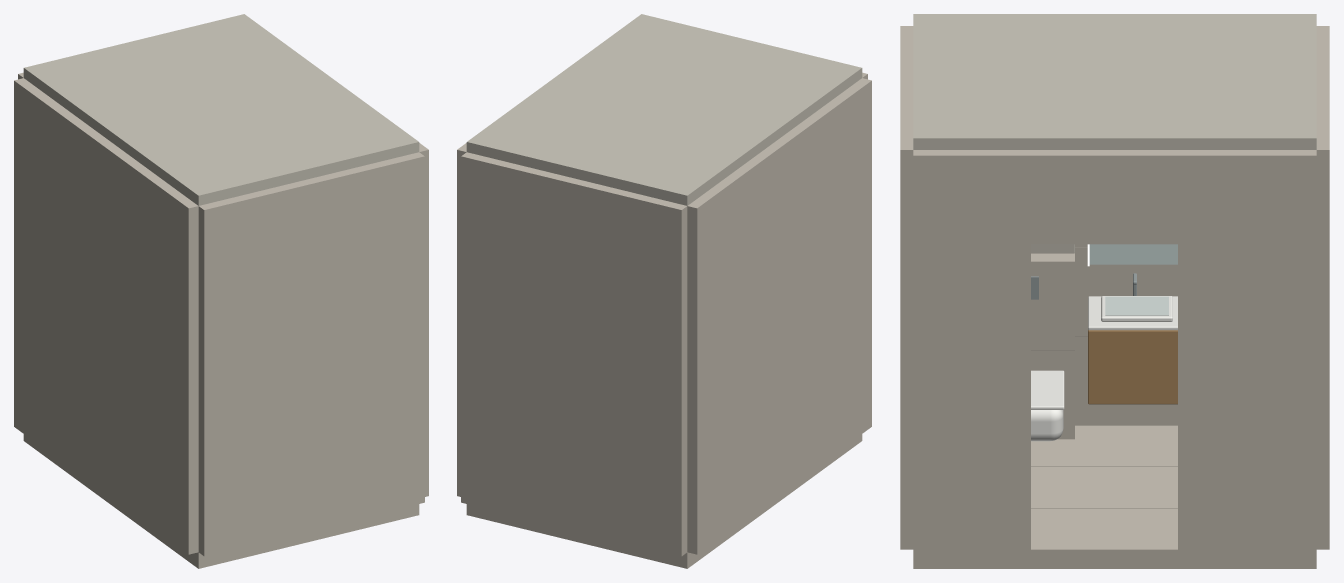
The model's file is a3-tiles.glb.
3 views of the same model, side by side, from view 1: azimuth 30°, elevation 25°; view 2: azimuth 150°, elevation 25°; view 3: azimuth 270°, elevation 25° (orthographic). The views are drawn at different scales.
Visible parts, largest first — view 1: T1-wall-south-3, T1-wall-west-1, T1-ceiling-4, T1-floor-0, T1-wall-east-2-6; view 2: T1-wall-north-2, T1-wall-west-1, T1-ceiling-4, T1-floor-0, T1-wall-east-1-5; view 3: T1-wall-east-1-5, T1-ceiling-4, T1-wall-east-2-6, T1-floor-0, T1-wall-east-lintel-7, T1-wall-north-2, T1-wall-south-3, T1-wall-west-1, T1-vanity-27, T1-WC-frame-23, T1-mirror-46, T1-WC-seat-25 (+4 smaller).
Boxes of the visible parts, x1=… form: T1-wall-south-3: x1=198, y1=152, x2=424, y2=556; T1-wall-west-1: x1=14, y1=78, x2=198, y2=554; T1-ceiling-4: x1=23, y1=14, x2=419, y2=205; T1-floor-0: x1=23, y1=434, x2=419, y2=568; T1-wall-east-2-6: x1=419, y1=143, x2=428, y2=496; T1-wall-north-2: x1=461, y1=152, x2=687, y2=556; T1-wall-west-1: x1=687, y1=78, x2=871, y2=554; T1-ceiling-4: x1=466, y1=14, x2=862, y2=205; T1-floor-0: x1=466, y1=434, x2=862, y2=568; T1-wall-east-1-5: x1=457, y1=143, x2=466, y2=496; T1-wall-east-1-5: x1=1178, y1=150, x2=1316, y2=555; T1-ceiling-4: x1=913, y1=14, x2=1316, y2=149; T1-wall-east-2-6: x1=913, y1=150, x2=1030, y2=555; T1-floor-0: x1=913, y1=425, x2=1316, y2=568; T1-wall-east-lintel-7: x1=1031, y1=150, x2=1177, y2=244; T1-wall-north-2: x1=1316, y1=26, x2=1329, y2=549; T1-wall-south-3: x1=900, y1=26, x2=913, y2=549; T1-wall-west-1: x1=1075, y1=244, x2=1177, y2=425; T1-vanity-27: x1=1088, y1=330, x2=1177, y2=404; T1-WC-frame-23: x1=1031, y1=253, x2=1074, y2=439; T1-mirror-46: x1=1089, y1=244, x2=1177, y2=264; T1-WC-seat-25: x1=1031, y1=370, x2=1064, y2=409.
Bounding box in the file's own units: 1.96 × 2.91 × 2.63.
